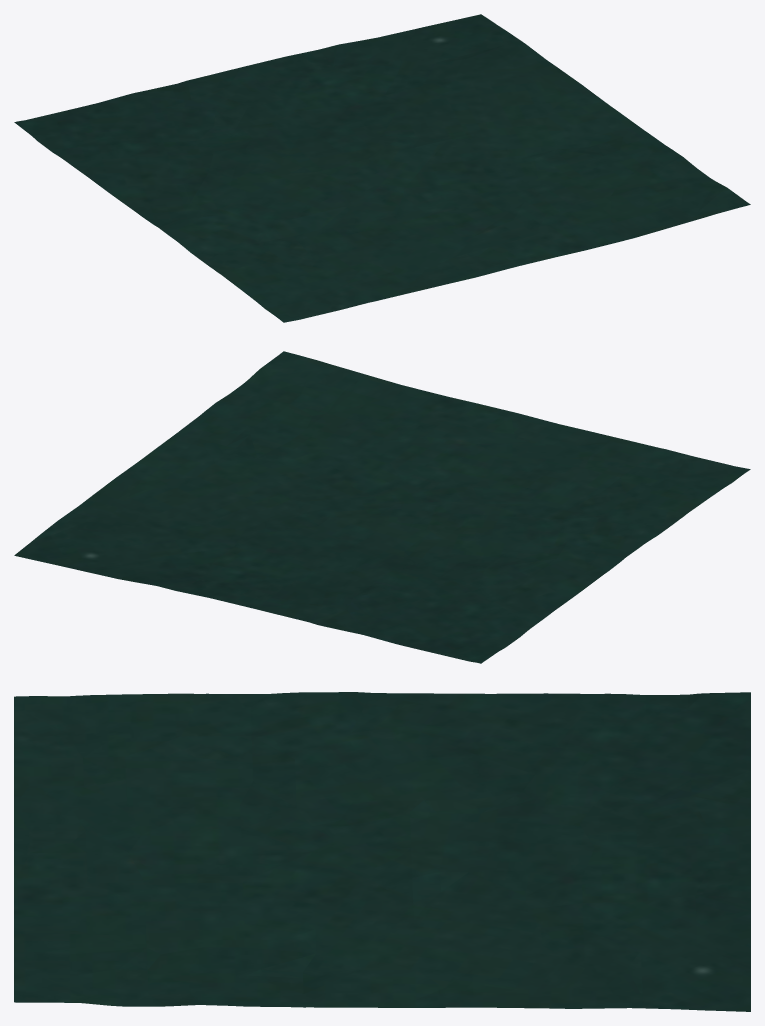
3 views of the same model, one above another, from view 1: azimuth 30°, elevation 25°; view 2: azimuth 150°, elevation 25°; view 3: azimuth 270°, elevation 25° (orthographic). The views are drawn at different scales.
Bounding box in the file's own units: 52.22 × 0.745 × 52.22.
Materials: 2 (2 with a texture image).
